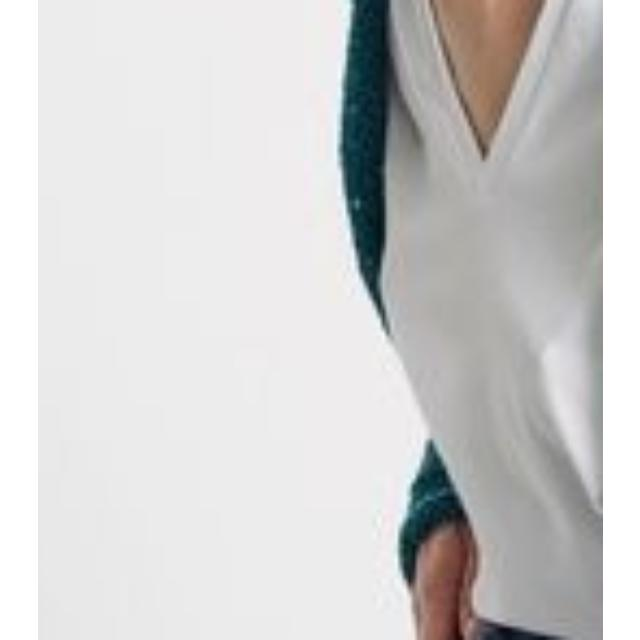wool: (329, 0, 603, 640)
